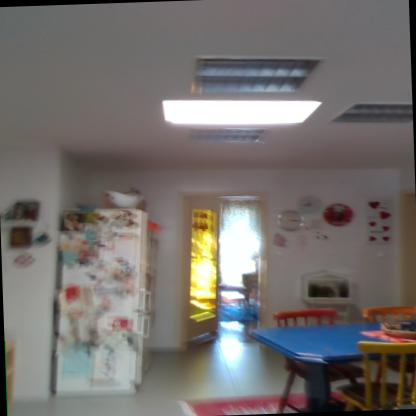semi: (182, 188, 272, 357)
